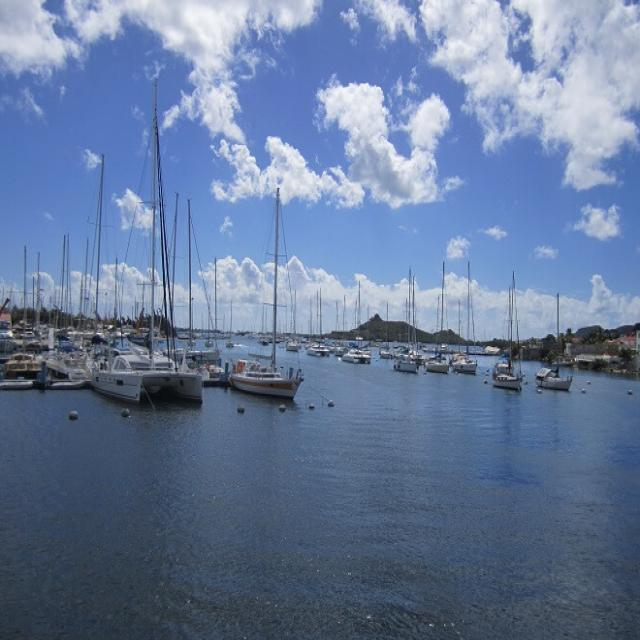houseboat: (217, 357, 302, 410), (106, 346, 196, 394), (541, 366, 576, 410), (393, 356, 427, 380), (484, 375, 530, 392), (455, 346, 472, 367)
